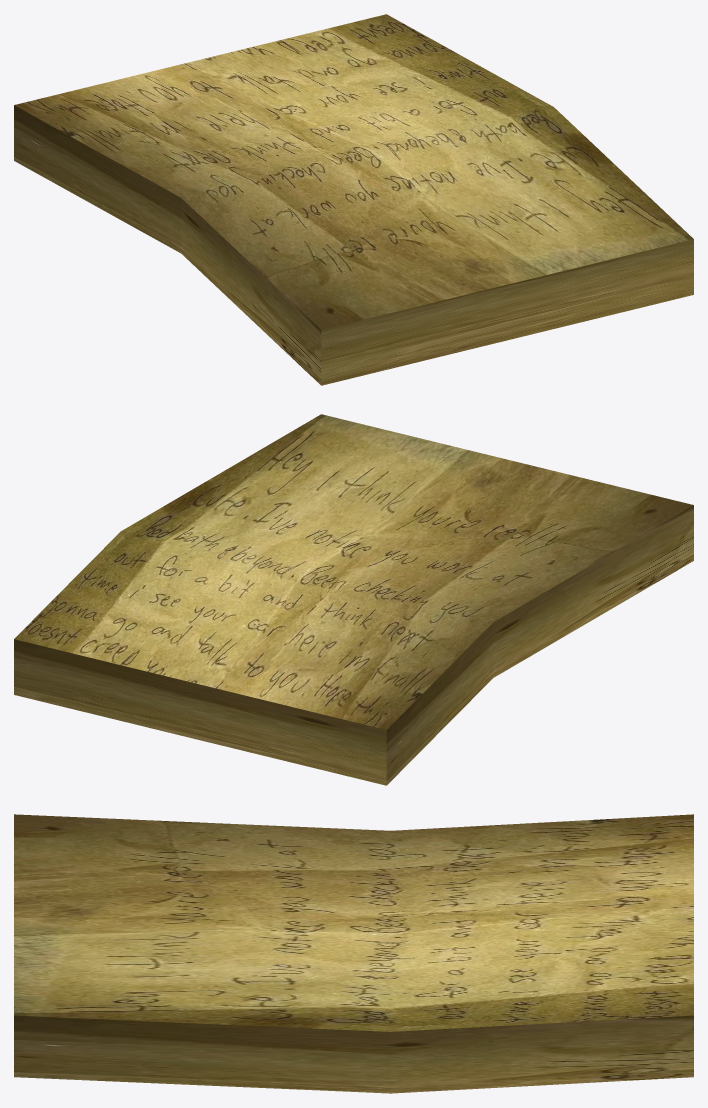
Rendered from note.glb.
3 renders of one model, top to bottom at view 1: azimuth 30°, elevation 25°; view 2: azimuth 150°, elevation 25°; view 3: azimuth 270°, elevation 25°, orthographic. The views are drawn at different scales.
Visible parts, largest first — view 1: Cube; view 2: Cube; view 3: Cube.
Boxes of the visible parts, x1=… form: Cube: x1=14, y1=14, x2=693, y2=385; Cube: x1=14, y1=414, x2=693, y2=785; Cube: x1=14, y1=814, x2=693, y2=1093.
Size of the model in its own units: 0.757 by 0.1 by 1.
1 material, 1 textured.
